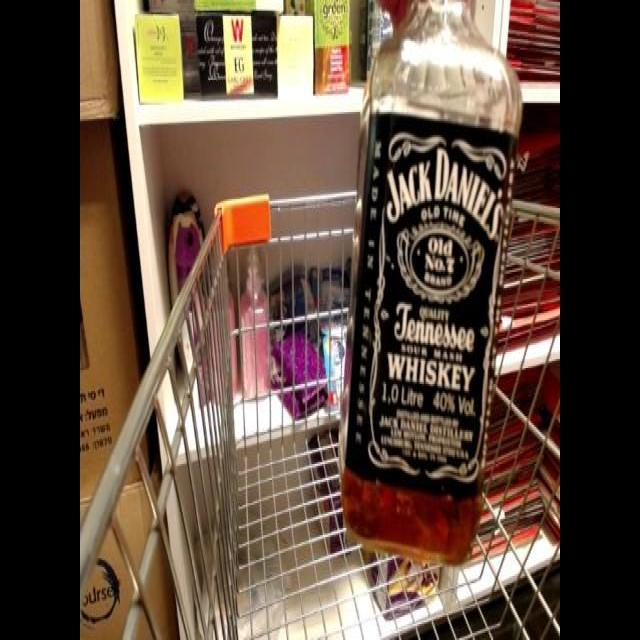Jack Daniels: (318, 1, 528, 564)
